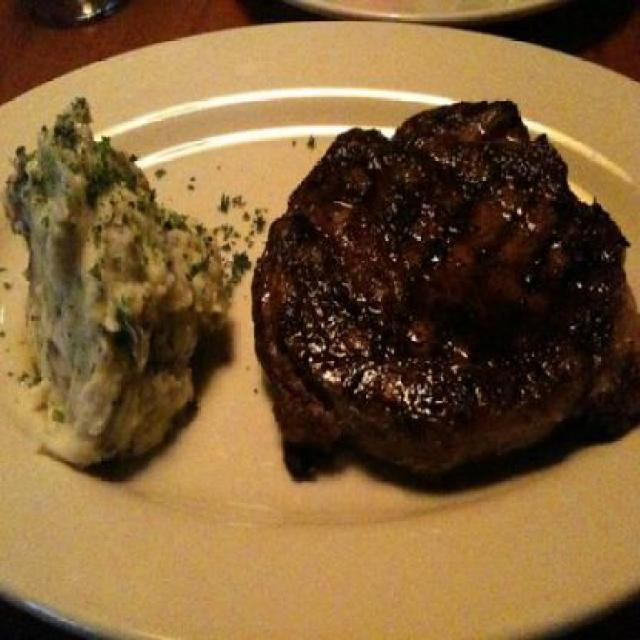Steak: (244, 113, 638, 544)
